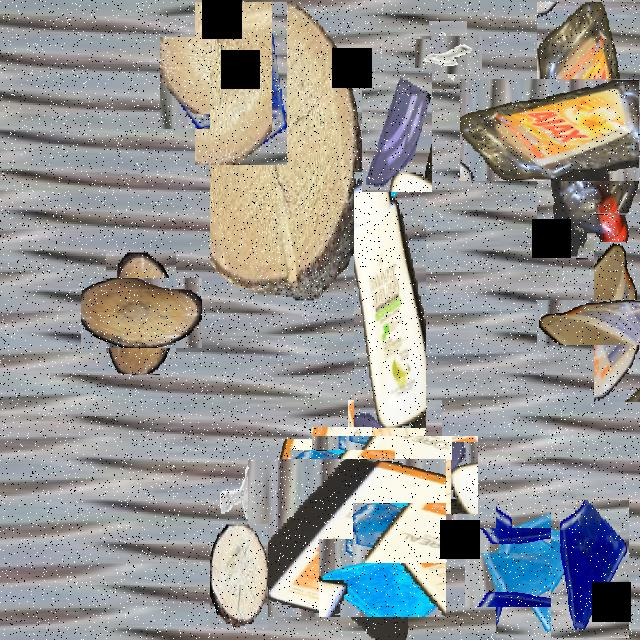glass: (330, 418, 460, 549), (177, 20, 305, 147), (481, 512, 592, 622), (551, 500, 629, 638), (362, 68, 432, 192), (301, 438, 384, 522)
metal: (256, 177, 336, 257), (214, 441, 270, 540), (422, 29, 474, 81)
plastic: (258, 449, 436, 628), (498, 40, 640, 219), (354, 172, 426, 428), (565, 270, 640, 373)
wood: (210, 2, 368, 300), (93, 265, 189, 361), (210, 524, 268, 628), (613, 188, 640, 238)
